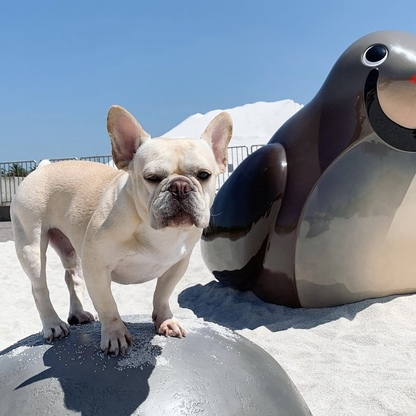bulldog: (4, 104, 235, 358)
